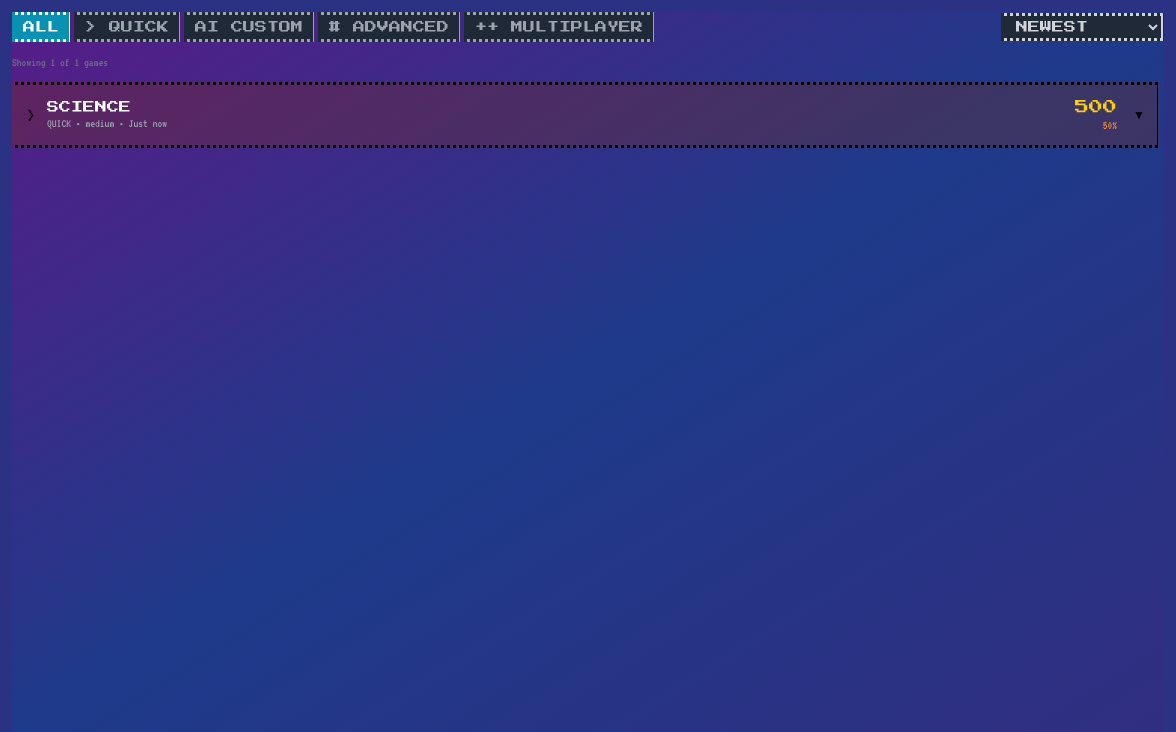
Test: GameHistoryList › expands entry details on click
Click to expand
What coordinates should you click on to do the following:
click the button with aria-label "Game details"
I would click on:
 (89, 107)
Its box is [15,85,1157,145].
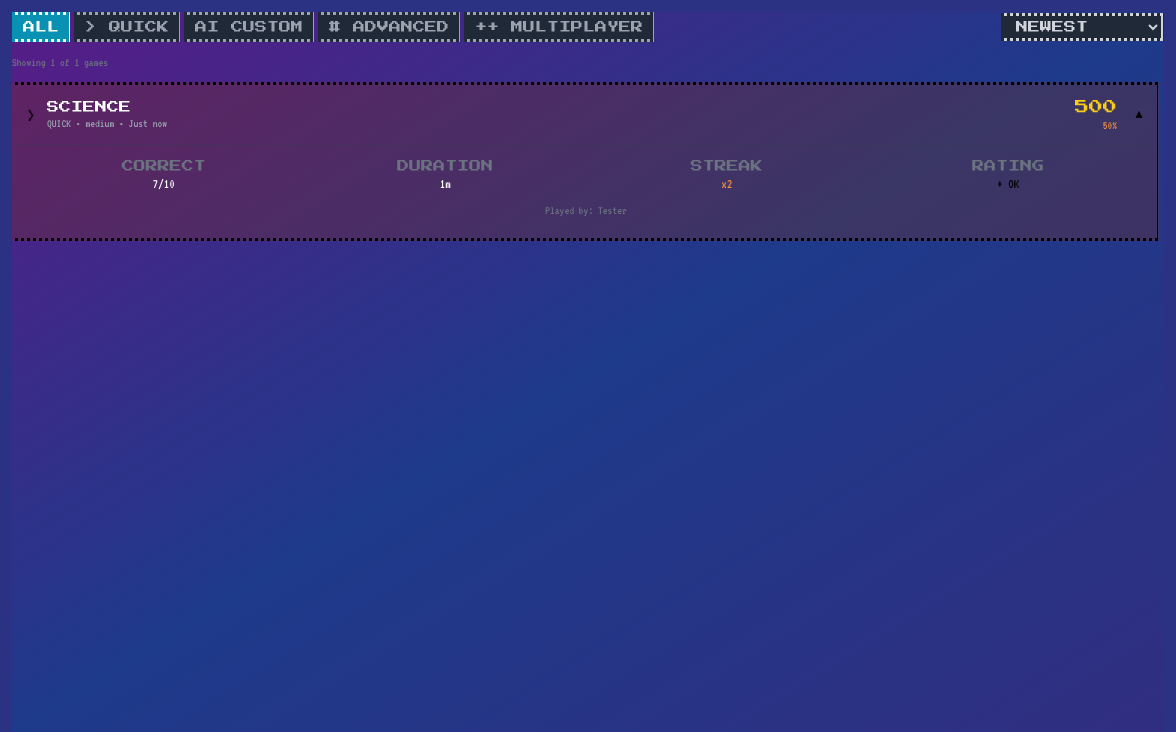
expect the text "7/10" is shown: met, box [152,177,175,191]
